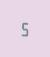five: (19, 19, 28, 37)
